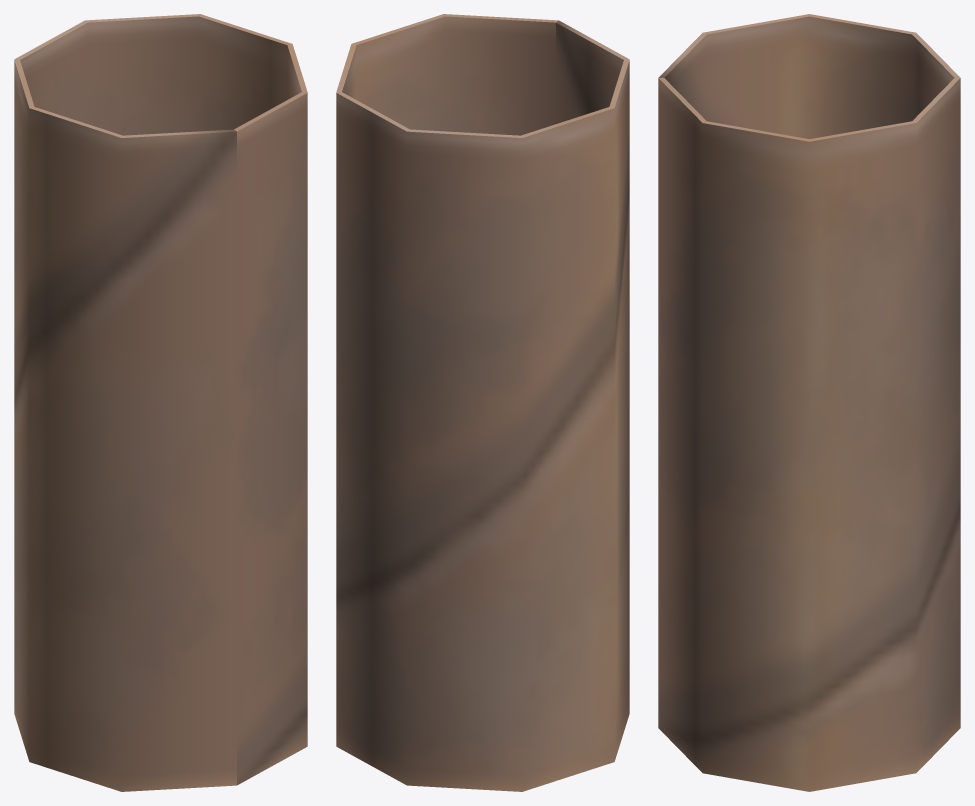
File: ITEM_toiletPaper_D.fbx
The picture shows the model from 3 angles, left to right: view 1: azimuth 30°, elevation 25°; view 2: azimuth 150°, elevation 25°; view 3: azimuth 270°, elevation 25°; orthographic projection.
Visible parts, largest first — view 1: ITEM_toiletPaper_D; view 2: ITEM_toiletPaper_D; view 3: ITEM_toiletPaper_D.
Part boxes in pixels (left/top/right/bottom): ITEM_toiletPaper_D: left=14, top=14, right=307, bottom=791; ITEM_toiletPaper_D: left=336, top=14, right=629, bottom=791; ITEM_toiletPaper_D: left=658, top=14, right=960, bottom=791.
Bounding box in the file's own units: 5.06 × 12 × 5.06.
